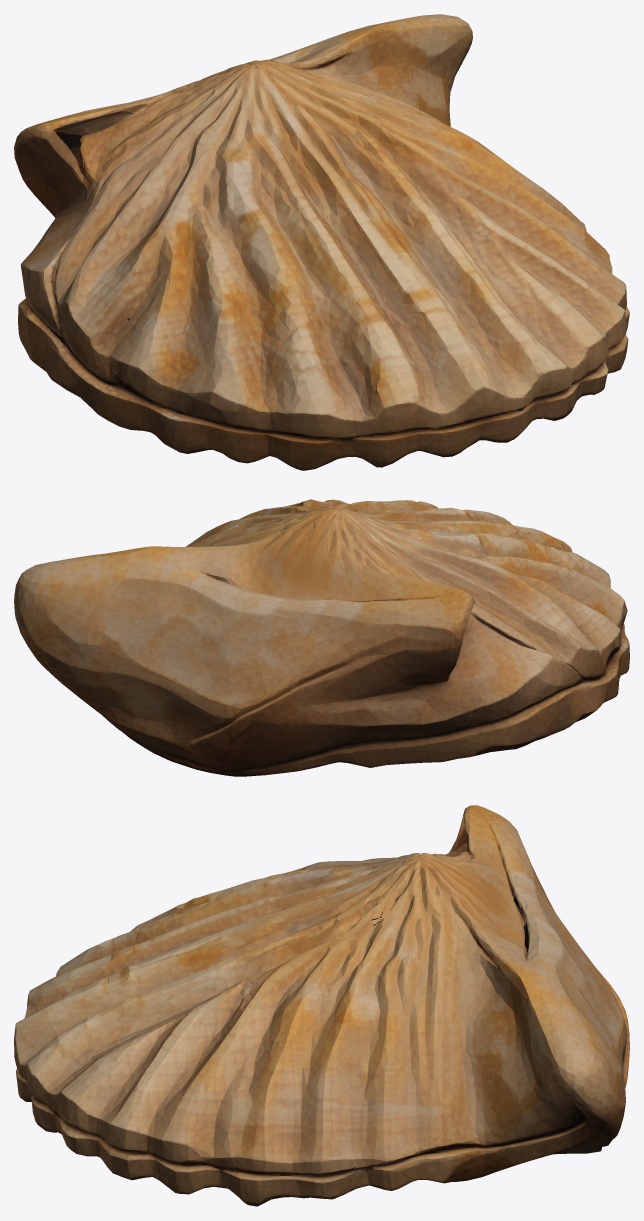
3 renders of one model, top to bottom at view 1: azimuth 30°, elevation 25°; view 2: azimuth 150°, elevation 25°; view 3: azimuth 270°, elevation 25°, orthographic. The views are drawn at different scales.
Parts seen in each view (by area): view 1: geometry_0; view 2: geometry_0; view 3: geometry_0.
Boxes of the visible parts, bbox=[...] form: geometry_0: bbox=[14, 14, 629, 470]; geometry_0: bbox=[14, 499, 629, 776]; geometry_0: bbox=[14, 805, 629, 1206].
Size of the model in its own units: 0.9815 by 0.4367 by 0.9976.
1 material, 1 textured.
